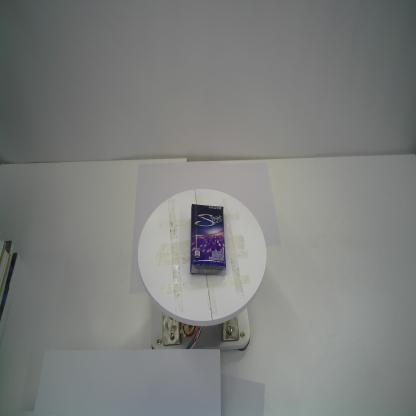Gum: (188, 201, 227, 279)
